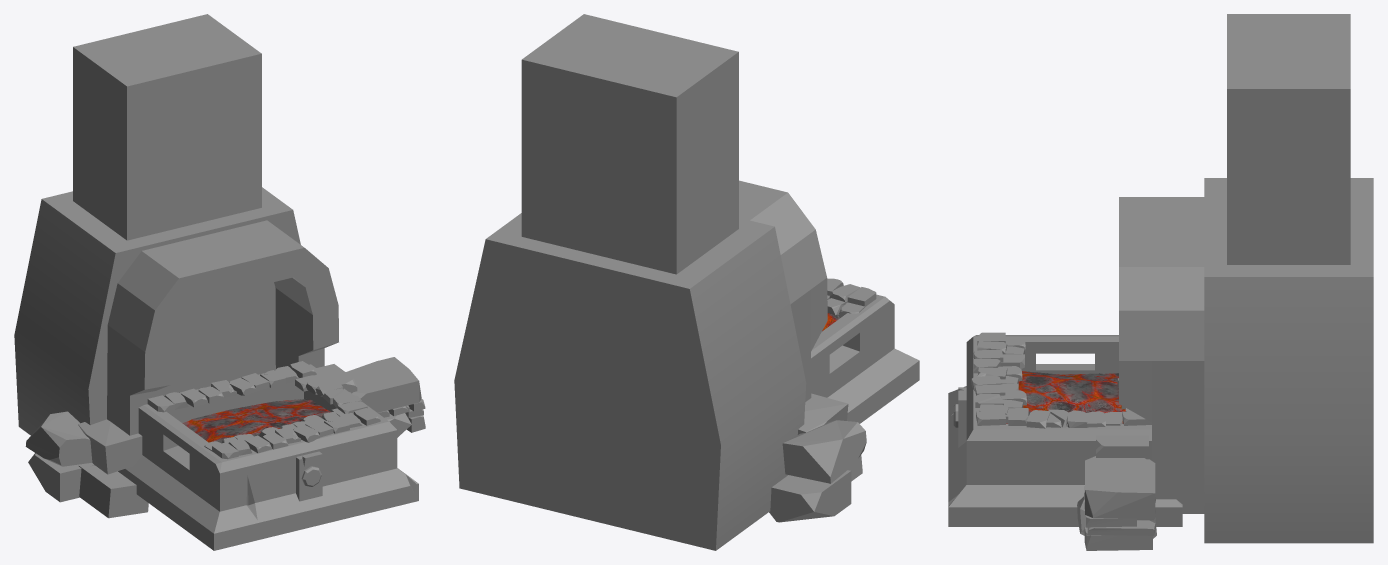
File: fireplace_v2.FBX
The picture shows the model from 3 angles, left to right: view 1: azimuth 30°, elevation 25°; view 2: azimuth 150°, elevation 25°; view 3: azimuth 270°, elevation 25°; orthographic projection. The views are drawn at different scales.
Parts seen in each view (by area): view 1: fireplace002, fireplace, fireplace001, Fireplace, bricks_fireplace48, bricks_fireplace067, bricks_fireplace070, bricks_fireplace069, bricks_fireplace068, bricks_fireplace19; view 2: fireplace002, fireplace, fireplace001, bricks_fireplace067, bricks_fireplace068, bricks_fireplace069; view 3: fireplace002, fireplace001, fireplace, bricks_fireplace48, Fireplace, bricks_fireplace19, bricks_fireplace44, bricks_fireplace42.
Boxes of the visible parts, left/top/right/bottom form: fireplace002: left=14, top=14, right=300, bottom=435; fireplace: left=118, top=364, right=418, bottom=550; fireplace001: left=107, top=220, right=338, bottom=435; Fireplace: left=182, top=398, right=331, bottom=442; bricks_fireplace48: left=346, top=357, right=421, bottom=412; bricks_fireplace067: left=25, top=411, right=92, bottom=466; bricks_fireplace070: left=78, top=464, right=148, bottom=518; bricks_fireplace069: left=78, top=419, right=142, bottom=474; bricks_fireplace068: left=28, top=453, right=94, bottom=502; bricks_fireplace19: left=316, top=364, right=357, bottom=393; fireplace002: left=454, top=14, right=806, bottom=550; fireplace: left=811, top=294, right=919, bottom=423; fireplace001: left=739, top=180, right=827, bottom=401; bricks_fireplace067: left=782, top=420, right=866, bottom=483; bricks_fireplace068: left=769, top=470, right=851, bottom=522; bricks_fireplace069: left=797, top=393, right=848, bottom=434; fireplace002: left=1204, top=14, right=1373, bottom=543; fireplace001: left=1119, top=197, right=1204, bottom=513; fireplace: left=948, top=335, right=1182, bottom=526; bricks_fireplace48: left=1085, top=456, right=1155, bottom=518; Fireplace: left=1006, top=371, right=1125, bottom=423; bricks_fireplace19: left=1096, top=435, right=1148, bottom=459; bricks_fireplace44: left=1084, top=527, right=1152, bottom=550; bricks_fireplace42: left=1087, top=520, right=1155, bottom=535.
Bounding box in the file's own units: 7.4 × 8.34 × 7.27.
